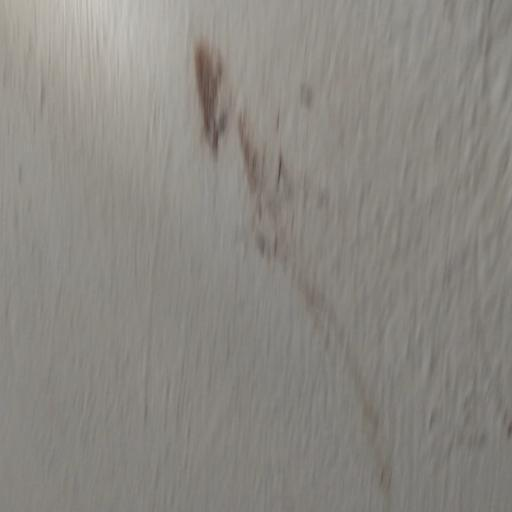stain: (149, 28, 417, 512)
